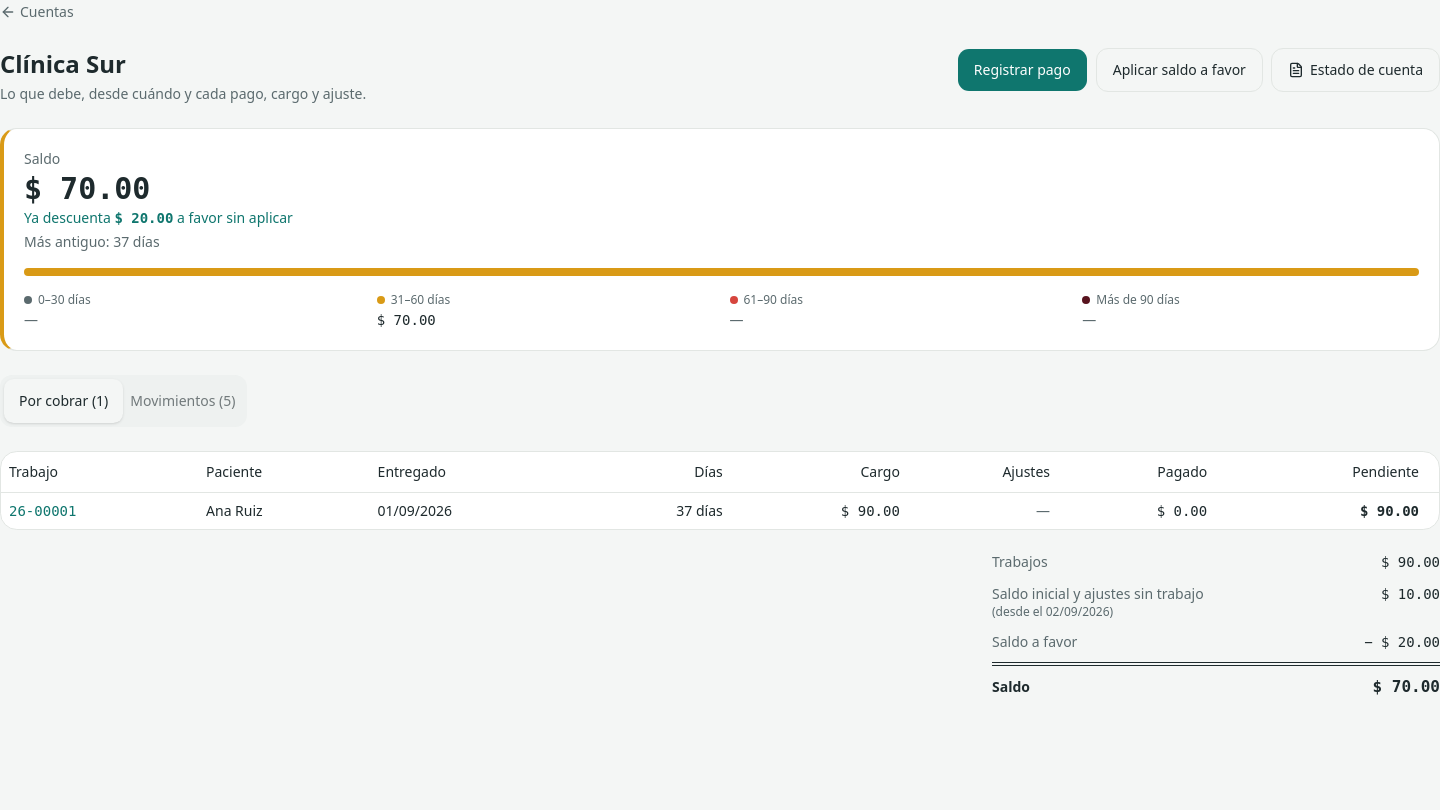
Test: ClinicAccountContent › «Aplicar saldo a favor» abre el reparto de ese pago
Step 1. Click the tab "Movimientos (5)" → (183, 401), box top-left (123, 379), bottom-right (243, 423)
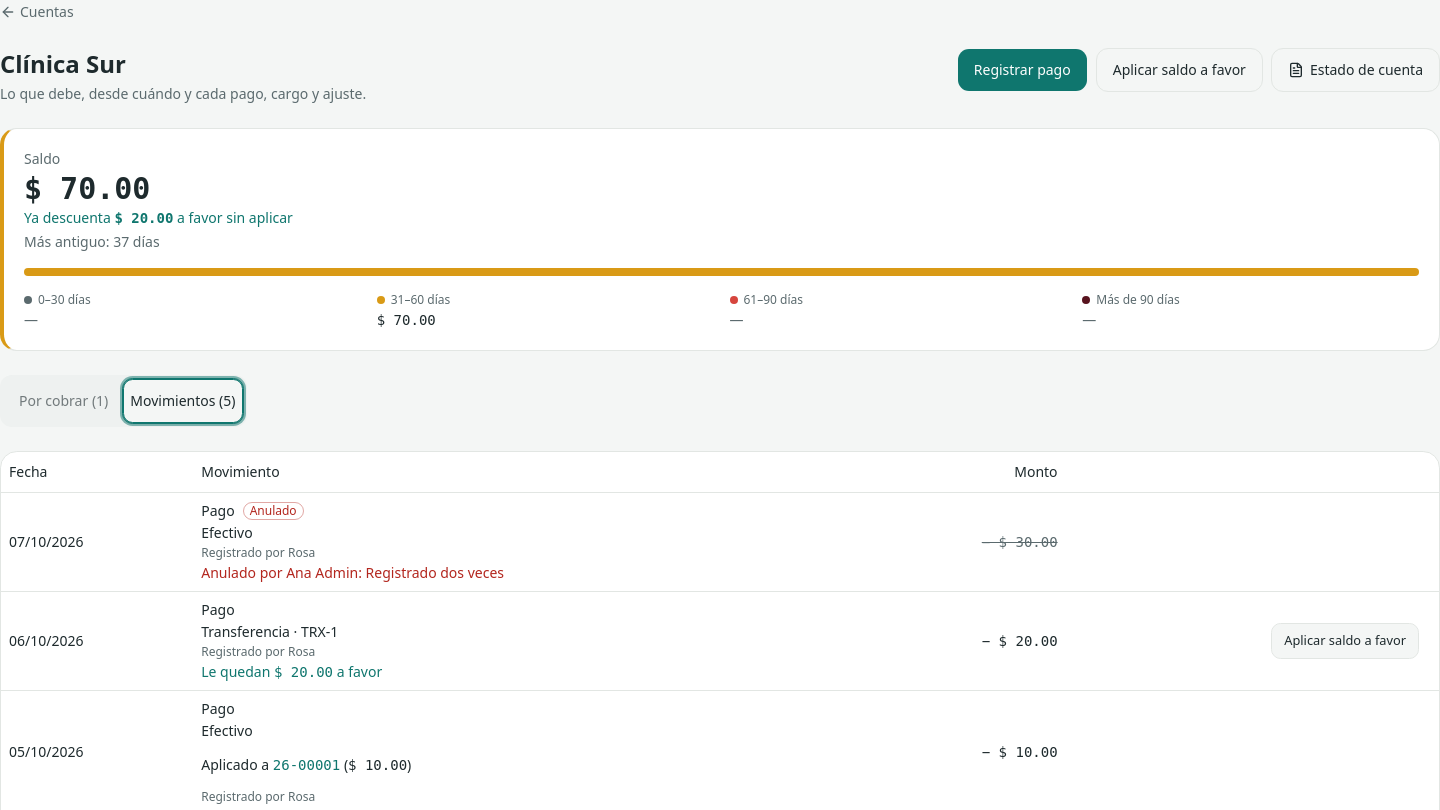
Step 2. Click the button with aria-label "Aplicar saldo a favor de $ 20.00 del 06/10/2026" → (1345, 640), box top-left (1271, 622), bottom-right (1419, 658)
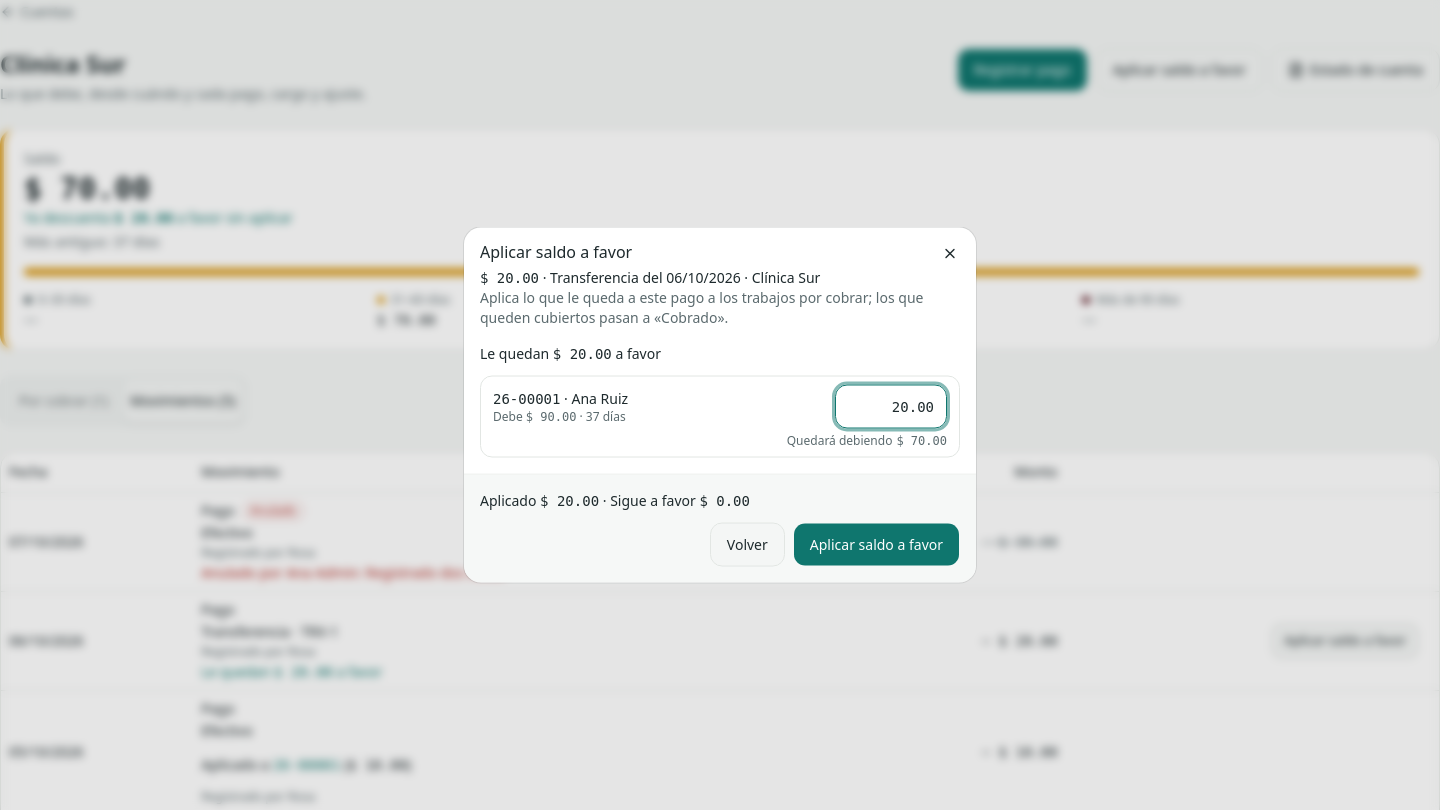
Expected: the field named "Monto para 26-00001" holds "20.00", top-left (835, 384), bottom-right (947, 428)
